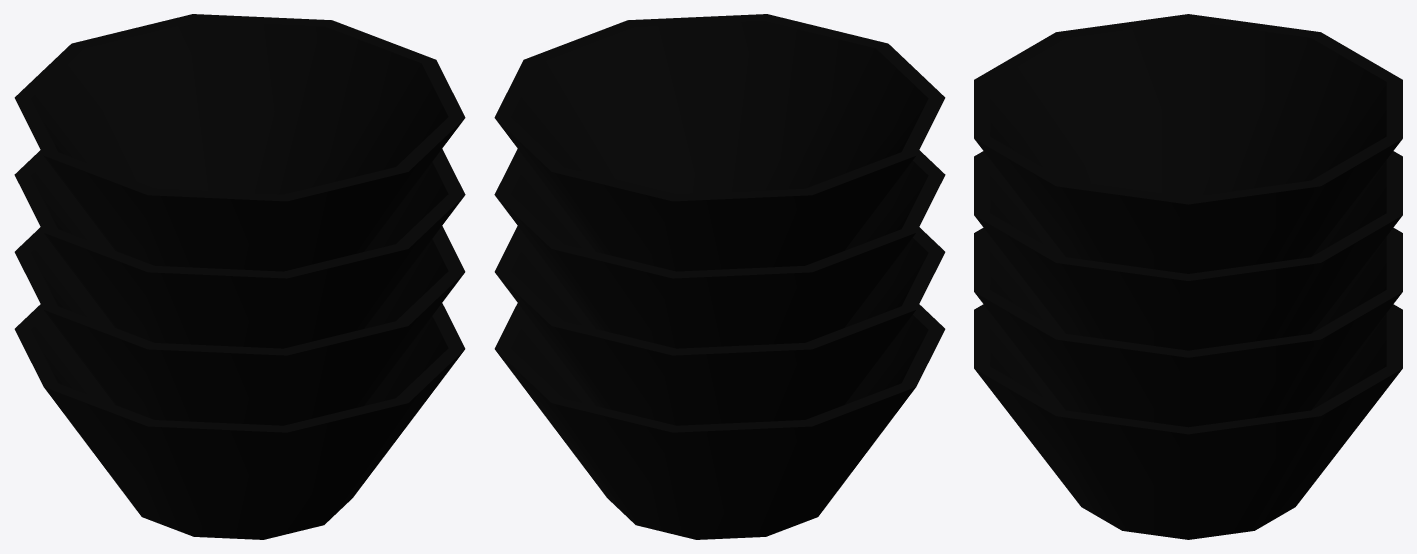
Rendered from SM_bowl_stack.fbx.
The picture shows the model from 3 angles, left to right: view 1: azimuth 30°, elevation 25°; view 2: azimuth 150°, elevation 25°; view 3: azimuth 270°, elevation 25°; orthographic projection.
Parts seen in each view (by area): view 1: bowl_stack; view 2: bowl_stack; view 3: bowl_stack.
Part boxes in pixels (x1,y1,x2,y2): bowl_stack: (14,14,465,539); bowl_stack: (494,14,945,539); bowl_stack: (974,14,1402,539).
Size of the model in its own units: 0.16 by 0.15 by 0.1522.
